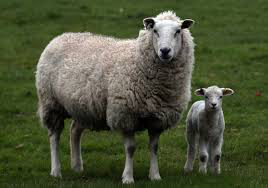koyun: (33, 10, 189, 181), (191, 89, 232, 174)
